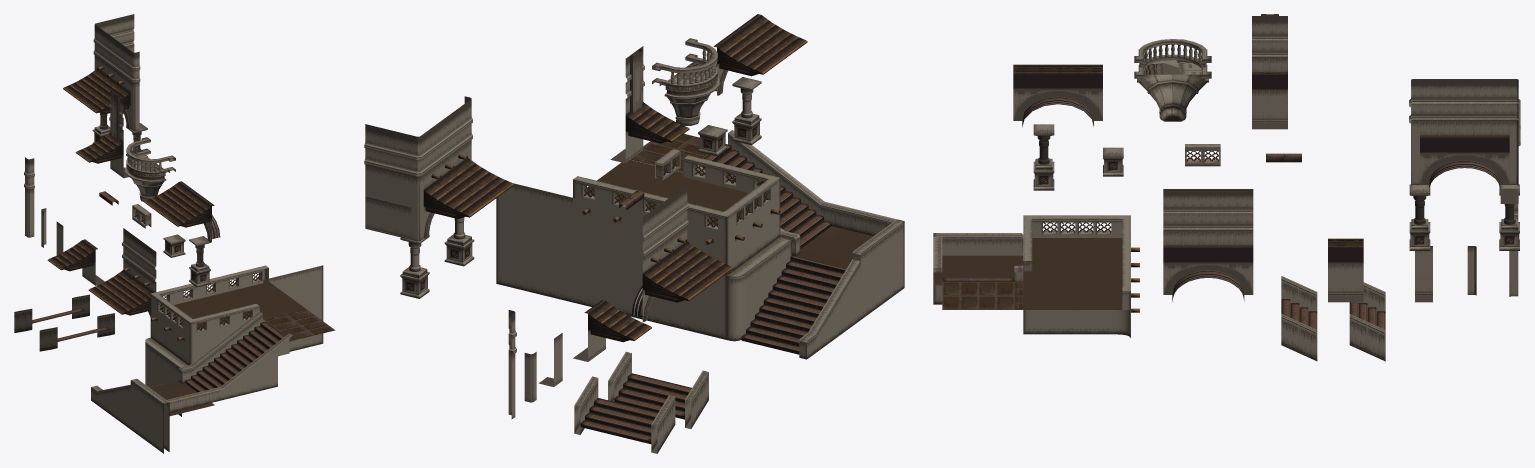
File: EnvMdrMD_Mansion_B_Exterior_Fence.FBX
The picture shows the model from 3 angles, left to right: view 1: azimuth 30°, elevation 25°; view 2: azimuth 150°, elevation 25°; view 3: azimuth 270°, elevation 25°; orthographic projection. The views are drawn at different scales.
Parts seen in each view (by area): view 1: EnvMdrMD_Mansion_B_Exterior_Stairs_A, EnvMdrMD_Mansion_B_Exterior_Wall_Gate, EnvMdrMD_Mansion_B_Exterior_Wall_Loop_A, EnvMdrMD_Mansion_B_Exterior_Wall_Loop_A_1F, EnvMdrMD_Mansion_B_Exterior_Wall_Loop_B, EnvMdrMD_Mansion_B_Exterior_Wall_Arch, EnvMdrMD_Mansion_B_Exterior_Wall_Loop_B_1F, EnvMdrMD_Mansion_B_Exterior_Stairs_A_Loop, EnvMdrMD_Mansion_B_Exterior_Stairs_A_End, EnvMdrMD_Mansion_B_Exterior_Wall_CoOut_A, EnvMdrMD_Mansion_B_Exterior_Piller, EnvMdrMD_Mansion_B_Exterior_Piller_Base (+1 smaller); view 2: EnvMdrMD_Mansion_B_Exterior_Stairs_A, EnvMdrMD_Mansion_B_Exterior_Wall_Gate, EnvMdrMD_Mansion_B_Exterior_Wall_Loop_A, EnvMdrMD_Mansion_B_Exterior_Stairs_A_End, EnvMdrMD_Mansion_B_Exterior_Wall_Loop_A_1F, EnvMdrMD_Mansion_B_Exterior_Stairs_A_Loop, EnvMdrMD_Mansion_B_Exterior_Wall_Loop_B, EnvMdrMD_Mansion_B_Exterior_Wall_Arch, EnvMdrMD_Mansion_B_Exterior_Wall_Loop_B_1F, EnvMdrMD_Mansion_B_Exterior_Piller, EnvMdrMD_Mansion_B_Exterior_Wall_CoOut_A, EnvMdrMD_Mansion_B_Exterior_Piller_Base (+3 smaller); view 3: EnvMdrMD_Mansion_B_Exterior_Stairs_A, EnvMdrMD_Mansion_B_Exterior_Wall_Gate, EnvMdrMD_Mansion_B_Exterior_Wall_Loop_A, EnvMdrMD_Mansion_B_Exterior_Wall_Arch, EnvMdrMD_Mansion_B_Exterior_Wall_Loop_A_1F, EnvMdrMD_Mansion_B_Exterior_Wall_Loop_B, EnvMdrMD_Mansion_B_Exterior_Stairs_A_Loop, EnvMdrMD_Mansion_B_Exterior_Wall_Loop_B_1F, EnvMdrMD_Mansion_B_Exterior_Stairs_A_End, EnvMdrMD_Mansion_B_Exterior_Piller, EnvMdrMD_Mansion_B_Exterior_Wall_Loop_C, EnvMdrMD_Mansion_B_Exterior_Fence (+1 smaller).
Boxes of the visible parts, bbox=[...] form: EnvMdrMD_Mansion_B_Exterior_Stairs_A: bbox=[91, 265, 335, 453]; EnvMdrMD_Mansion_B_Exterior_Wall_Gate: bbox=[63, 14, 147, 156]; EnvMdrMD_Mansion_B_Exterior_Wall_Loop_A: bbox=[88, 228, 156, 317]; EnvMdrMD_Mansion_B_Exterior_Wall_Loop_A_1F: bbox=[144, 181, 220, 242]; EnvMdrMD_Mansion_B_Exterior_Wall_Loop_B: bbox=[75, 90, 128, 178]; EnvMdrMD_Mansion_B_Exterior_Wall_Arch: bbox=[125, 137, 175, 201]; EnvMdrMD_Mansion_B_Exterior_Wall_Loop_B_1F: bbox=[47, 239, 104, 285]; EnvMdrMD_Mansion_B_Exterior_Stairs_A_Loop: bbox=[39, 313, 114, 351]; EnvMdrMD_Mansion_B_Exterior_Stairs_A_End: bbox=[14, 294, 89, 332]; EnvMdrMD_Mansion_B_Exterior_Wall_CoOut_A: bbox=[24, 157, 34, 237]; EnvMdrMD_Mansion_B_Exterior_Piller: bbox=[189, 236, 210, 286]; EnvMdrMD_Mansion_B_Exterior_Piller_Base: bbox=[163, 234, 185, 257]; EnvMdrMD_Mansion_B_Exterior_Stairs_A: bbox=[496, 130, 904, 359]; EnvMdrMD_Mansion_B_Exterior_Wall_Gate: bbox=[364, 96, 514, 298]; EnvMdrMD_Mansion_B_Exterior_Wall_Loop_A: bbox=[632, 185, 733, 321]; EnvMdrMD_Mansion_B_Exterior_Stairs_A_End: bbox=[574, 376, 675, 453]; EnvMdrMD_Mansion_B_Exterior_Wall_Loop_A_1F: bbox=[713, 14, 807, 95]; EnvMdrMD_Mansion_B_Exterior_Stairs_A_Loop: bbox=[608, 352, 708, 428]; EnvMdrMD_Mansion_B_Exterior_Wall_Loop_B: bbox=[610, 46, 689, 163]; EnvMdrMD_Mansion_B_Exterior_Wall_Arch: bbox=[652, 38, 719, 125]; EnvMdrMD_Mansion_B_Exterior_Wall_Loop_B_1F: bbox=[573, 300, 651, 361]; EnvMdrMD_Mansion_B_Exterior_Piller: bbox=[732, 77, 761, 145]; EnvMdrMD_Mansion_B_Exterior_Wall_CoOut_A: bbox=[508, 310, 516, 419]; EnvMdrMD_Mansion_B_Exterior_Piller_Base: bbox=[698, 125, 727, 156]; EnvMdrMD_Mansion_B_Exterior_Stairs_A: bbox=[933, 215, 1139, 337]; EnvMdrMD_Mansion_B_Exterior_Wall_Gate: bbox=[1409, 79, 1520, 250]; EnvMdrMD_Mansion_B_Exterior_Wall_Loop_A: bbox=[1163, 189, 1253, 301]; EnvMdrMD_Mansion_B_Exterior_Wall_Arch: bbox=[1134, 39, 1211, 121]; EnvMdrMD_Mansion_B_Exterior_Wall_Loop_A_1F: bbox=[1013, 64, 1102, 127]; EnvMdrMD_Mansion_B_Exterior_Wall_Loop_B: bbox=[1252, 14, 1287, 129]; EnvMdrMD_Mansion_B_Exterior_Stairs_A_Loop: bbox=[1281, 276, 1317, 360]; EnvMdrMD_Mansion_B_Exterior_Wall_Loop_B_1F: bbox=[1328, 238, 1363, 302]; EnvMdrMD_Mansion_B_Exterior_Stairs_A_End: bbox=[1349, 282, 1385, 361]; EnvMdrMD_Mansion_B_Exterior_Piller: bbox=[1033, 124, 1054, 190]; EnvMdrMD_Mansion_B_Exterior_Wall_Loop_C: bbox=[1415, 246, 1432, 302]; EnvMdrMD_Mansion_B_Exterior_Fence: bbox=[1185, 144, 1220, 166].
Size of the model in its own units: 2018 by 2112 by 3266.
Materials: 3 (3 with a texture image).
